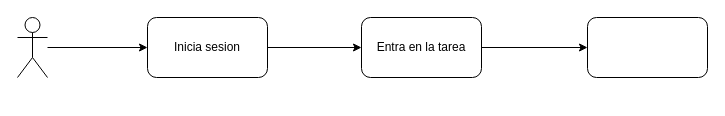
The diagram is 725 pixels wide and 116 high, and some of its shapes have lost their labels. Here are the shapes that lost their labels. From the top down, the centre of each, then its label:
(x=32, y=47): Aimar
(x=647, y=47): Sube el trabajo
